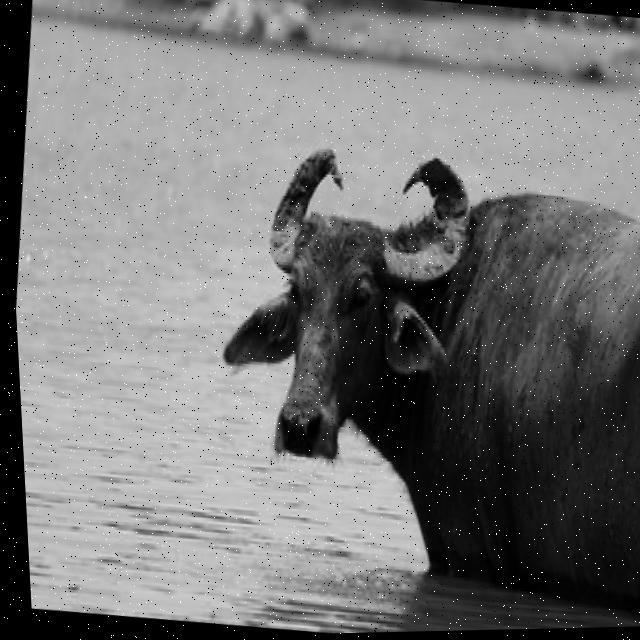Buffalo: (185, 121, 640, 621)
